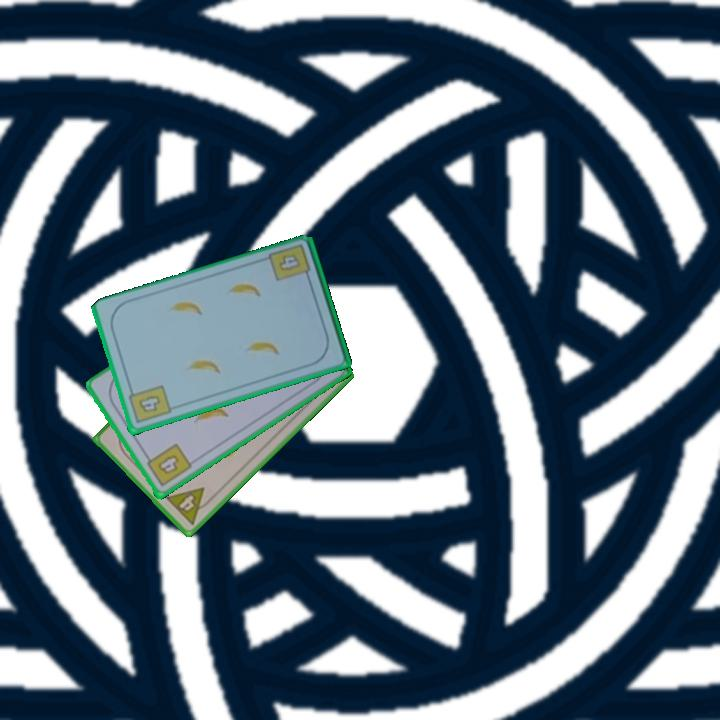4b: (141, 440, 194, 490), (125, 382, 173, 427), (265, 241, 314, 285)
4p: (162, 484, 216, 528)
